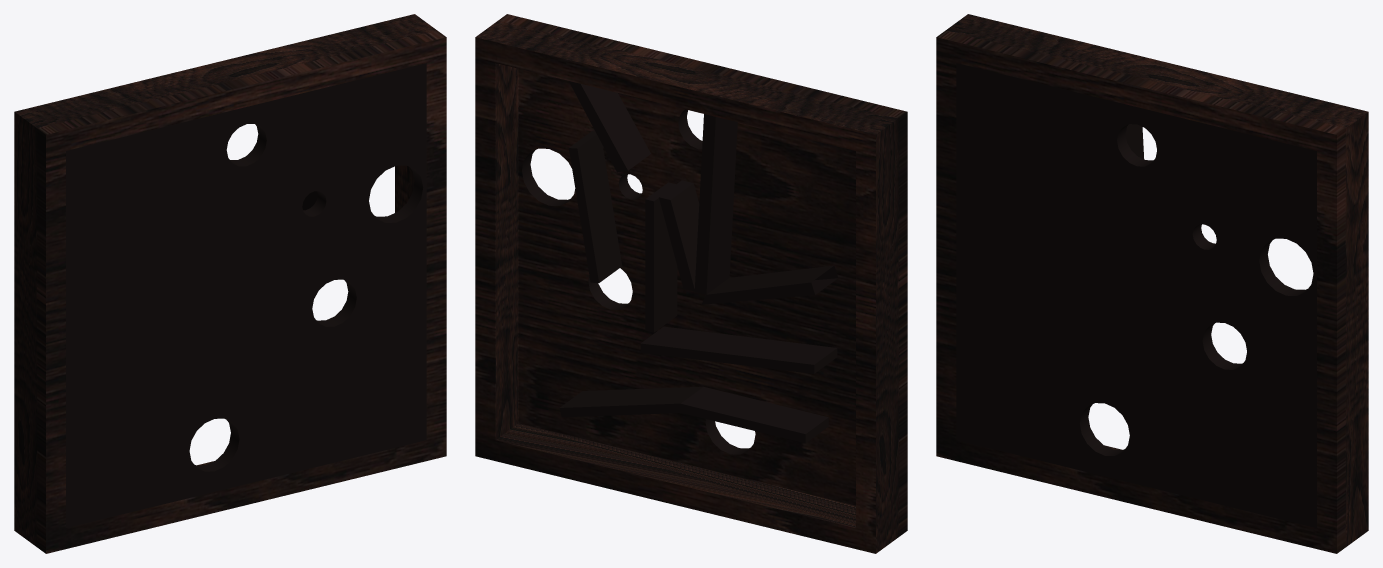
File: Tablet3.fbx
The picture shows the model from 3 angles, left to right: view 1: azimuth 30°, elevation 25°; view 2: azimuth 150°, elevation 25°; view 3: azimuth 330°, elevation 25°; orthographic projection.
Parts seen in each view (by area): view 1: Tablet; view 2: Tablet; view 3: Tablet.
Boxes of the visible parts, x1=… form: Tablet: x1=14, y1=14, x2=446, y2=553; Tablet: x1=475, y1=14, x2=907, y2=553; Tablet: x1=936, y1=14, x2=1368, y2=553.
Size of the model in its own units: 4 by 4 by 0.5506.
1 material, 1 textured.
